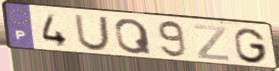4: (40, 13, 70, 49)
9: (158, 20, 190, 60)
G: (232, 27, 270, 65)
Q: (113, 18, 154, 56)
U: (73, 13, 112, 53)
Z: (191, 23, 231, 62)
